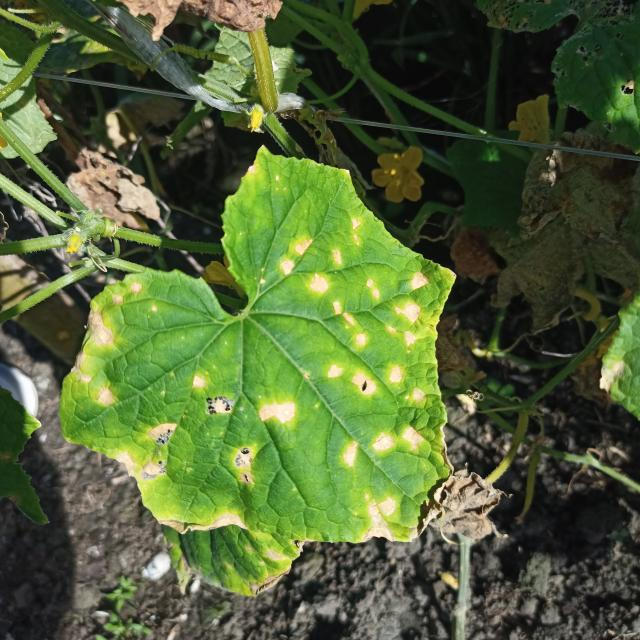disease_cucumber: (74, 214, 432, 542)
